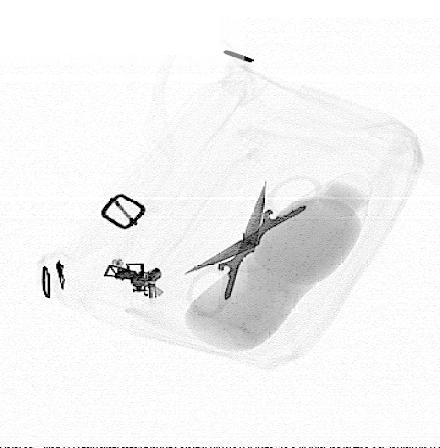Scissors: (180, 177, 322, 318)
